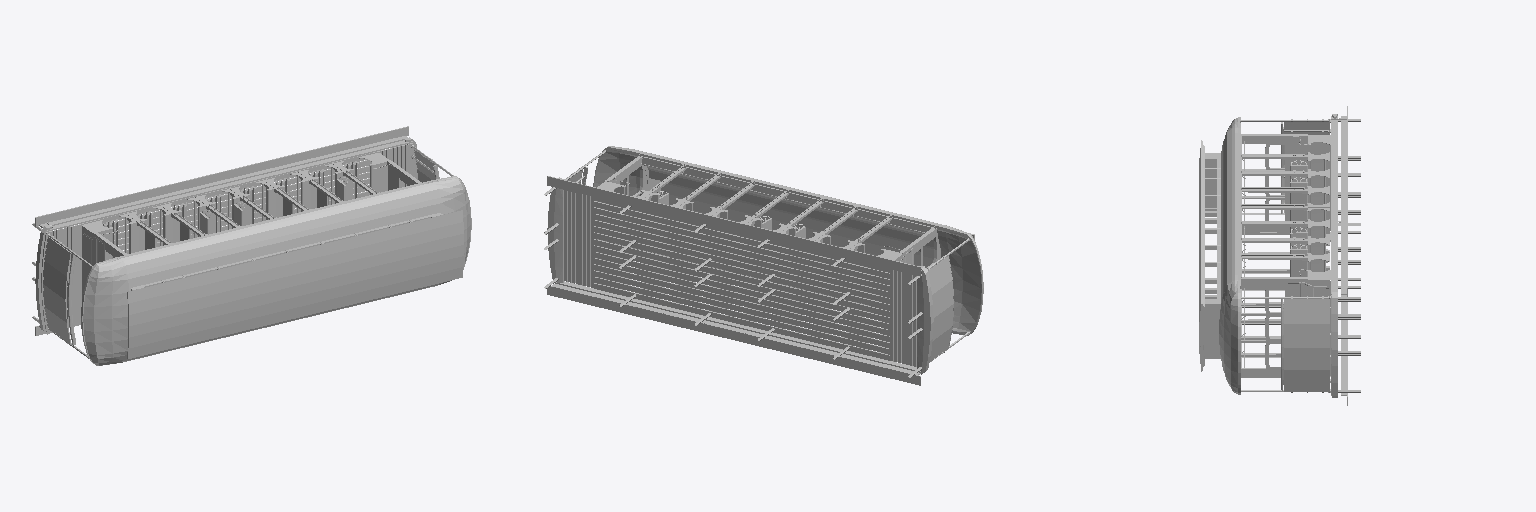
The model's file is cyber trolley.obj.
3 views of the same model, side by side, from view 1: azimuth 30°, elevation 25°; view 2: azimuth 150°, elevation 25°; view 3: azimuth 270°, elevation 25° (orthographic).
Parts seen in each view (by area): view 1: Object.5, Object.1, Object.12, Object.3, Object.16, Object.11, Object.14, Object.10, Object.17; view 2: Object.1, Object.5, Object.12, Object.10, Object.3, Object.16, Object.14, Object.11; view 3: Object.5, Object.11, Object.16, Object.10, Object.12, Object.3, Object.14, Object.17, Object.15, Object.13, Object.1.
Boxes of the visible parts, box(x1,y1,x2,y2) form: Object.5: box(32, 137, 471, 365); Object.1: box(35, 126, 438, 345); Object.12: box(98, 162, 387, 259); Object.3: box(39, 136, 412, 332); Object.16: box(43, 150, 434, 343); Object.11: box(83, 172, 442, 292); Object.14: box(83, 153, 388, 232); Object.10: box(82, 153, 421, 257); Object.17: box(145, 179, 345, 249); Object.1: box(547, 167, 950, 385); Object.5: box(544, 146, 981, 377); Object.12: box(594, 149, 981, 347); Object.10: box(594, 154, 936, 354); Object.3: box(552, 248, 921, 374); Object.16: box(567, 169, 953, 360); Object.14: box(597, 181, 901, 352); Object.11: box(620, 154, 940, 276); Object.5: box(1199, 114, 1360, 397); Object.11: box(1203, 137, 1328, 375); Object.16: box(1285, 122, 1328, 390); Object.10: box(1241, 134, 1330, 377); Object.12: box(1241, 145, 1329, 356); Object.3: box(1205, 116, 1347, 395); Object.14: box(1307, 135, 1330, 376); Object.17: box(1290, 165, 1307, 276); Object.15: box(1242, 136, 1310, 357); Object.13: box(1238, 117, 1245, 394); Object.1: box(1281, 106, 1347, 405).
Bounding box in the file's own units: 398426 × 115775 × 143768.